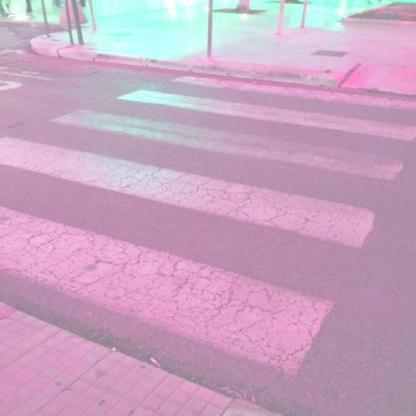crosswalk: (39, 86, 416, 185)
